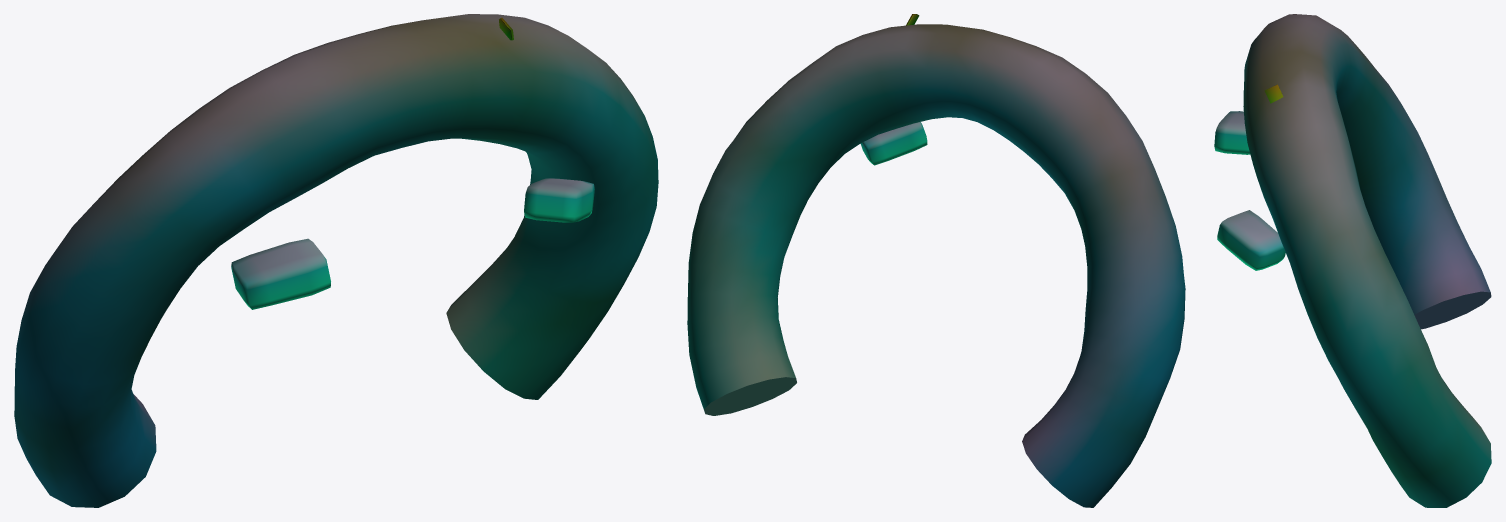
File: lit_age_ring.glb
3 views of the same model, side by side, from view 1: azimuth 30°, elevation 25°; view 2: azimuth 150°, elevation 25°; view 3: azimuth 270°, elevation 25° (orthographic). The views are drawn at different scales.
Visible parts, largest first — view 1: lit_age_ring; view 2: lit_age_ring; view 3: lit_age_ring.
Part boxes in pixels (<box>): lit_age_ring: <box>14,14,658,507</box>; lit_age_ring: <box>687,14,1185,507</box>; lit_age_ring: <box>1214,14,1491,507</box>.
Size of what is drawn, in the model's own units: 3.64 by 2.72 by 1.84.
